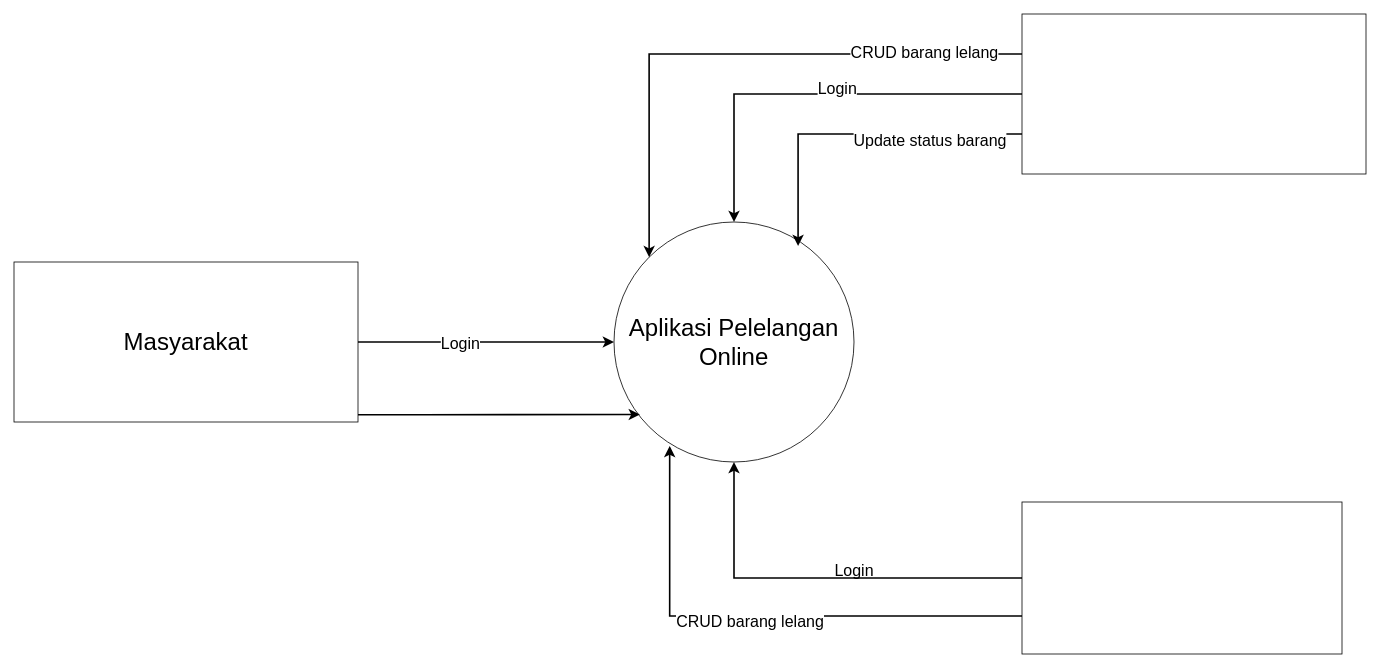
Image size: 1380x668. Some labels were removed from this diagram. Each missing label, with the box of its shape:
Administrator: (1021, 501, 1342, 654)
Staff: (1021, 13, 1366, 174)
